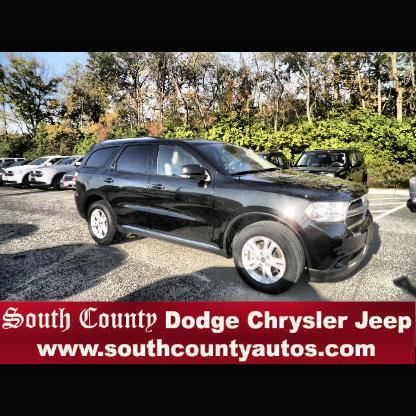Dodge Durango SUV 2012: (74, 140, 376, 297)
